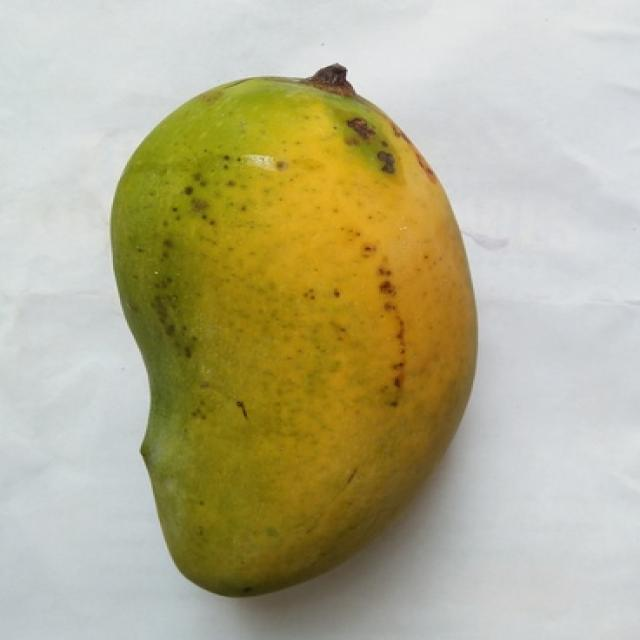Mango: (113, 67, 475, 594)
